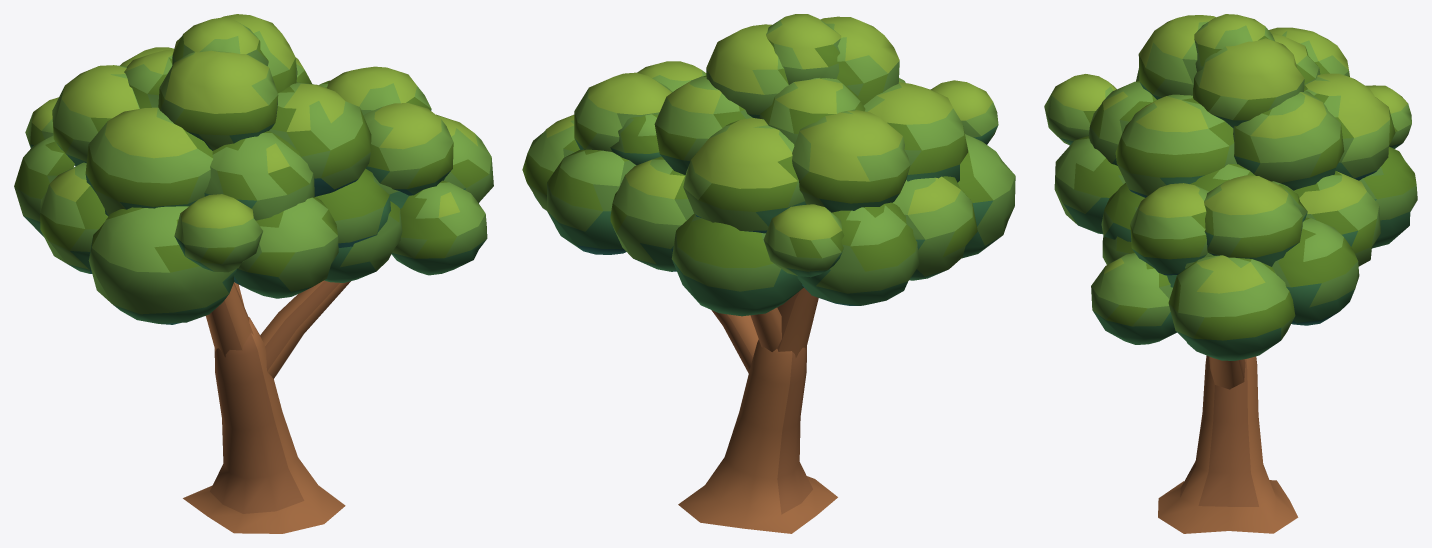
Rendered from tree_b.glb.
The picture shows the model from 3 angles, left to right: view 1: azimuth 30°, elevation 25°; view 2: azimuth 150°, elevation 25°; view 3: azimuth 270°, elevation 25°; orthographic projection. The views are drawn at different scales.
Parts seen in each view (by area): view 1: Canopy, Trunk; view 2: Canopy, Trunk; view 3: Canopy, Trunk.
Part boxes in pixels (x1=…): Canopy: x1=14, y1=14, x2=493, y2=324; Trunk: x1=183, y1=280, x2=350, y2=533; Canopy: x1=522, y1=14, x2=1015, y2=316; Trunk: x1=678, y1=287, x2=837, y2=533; Canopy: x1=1044, y1=14, x2=1417, y2=360; Trunk: x1=1158, y1=355, x2=1298, y2=533.
Bounding box in the file's own units: 5.81 × 6.28 × 4.53.
